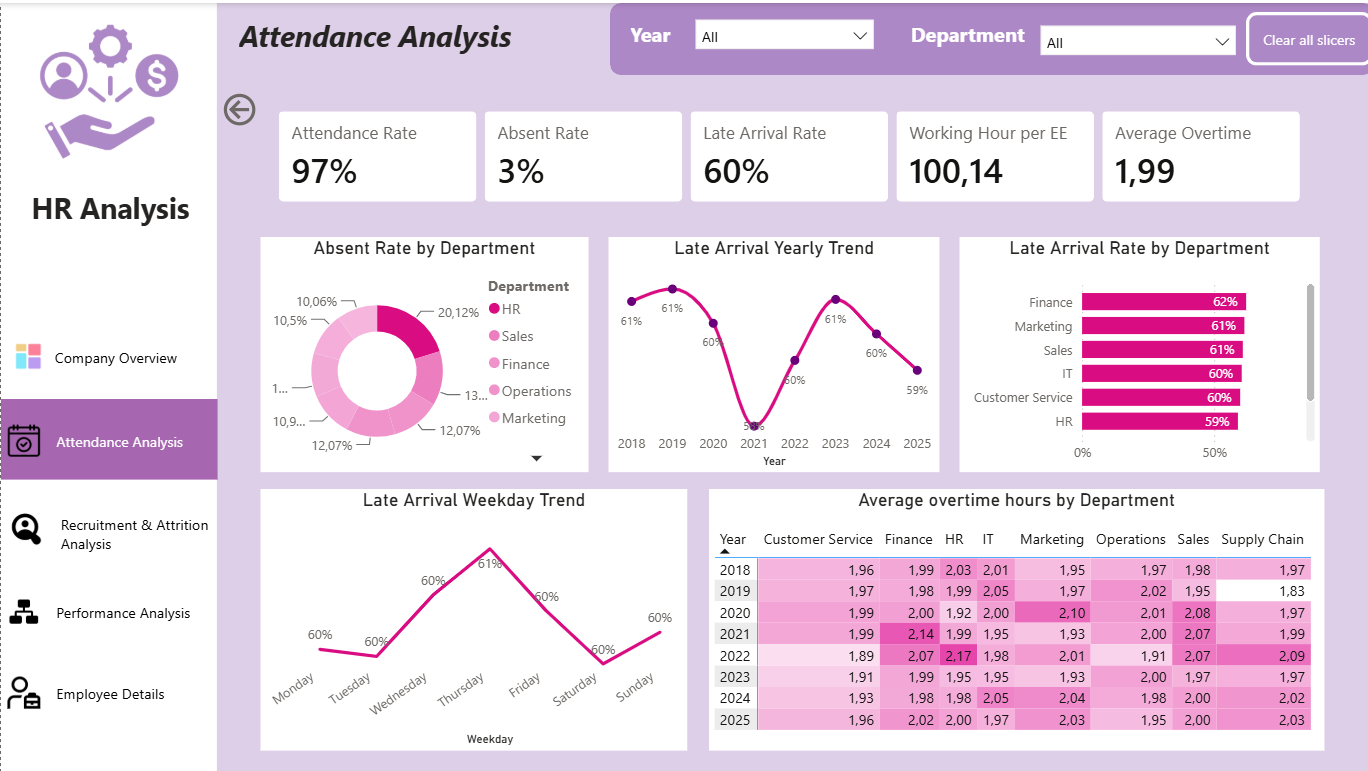

The dashboard page shown, as its layout file describes it:
{"tool":"powerbi","page":{"name":"Attendance","canvas":[1280,720],"ordinal":2},"visuals":[{"type":"textbox","box":[216.3,6.3,305.9,77.2],"z":0},{"type":"donutChart","fields":{"Category":["Department.Department"],"Y":["KPI Table.Absent Rate"]},"box":[242.3,218,305.9,219.6],"z":1000},{"type":"image","box":[4.5,317.7,42.4,24],"z":1000,"group":"g1"},{"type":"image","box":[0,476.5,47.4,30.3],"z":1000,"group":"g3"},{"type":"image","box":[0,552.6,42.4,30.3],"z":1000,"group":"g4"},{"type":"image","box":[0,627.4,42.4,30.3],"z":1000,"group":"g5"},{"type":"shape","box":[0,369.5,202.1,75.2],"z":1500,"group":"g2"},{"type":"image","box":[0,392.6,42.4,30.3],"z":1750,"group":"g2"},{"type":"actionButton","box":[46.9,304.5,131.7,50.5],"z":2000,"group":"g1"},{"type":"actionButton","box":[46.9,376.3,156,63.6],"z":2000,"group":"g2"},{"type":"pivotTable","title":"Average overtime hours by Department","fields":{"Rows":["Dim_Date.Year"],"Columns":["Department.Department"],"Values":["KPI Table.Average Overtime Hours"]},"box":[660.2,452.7,573.9,243.8],"z":2000},{"type":"actionButton","box":[51.5,467.9,151.4,54.5],"z":2000,"group":"g3"},{"type":"actionButton","box":[46.9,536,156,63.6],"z":2000,"group":"g4"},{"type":"actionButton","box":[46.9,610.8,156,63.6],"z":2000,"group":"g5"},{"type":"barChart","fields":{"Category":["Department.Department"],"Y":["KPI Table.Late Arrival Rate"]},"box":[893.4,218,336.2,219.6],"z":3000},{"type":"lineChart","title":"Late Arrival Yearly Trend","fields":{"Y":["KPI Table.Late Arrival Rate"],"Category":["Dim_Date.Year"]},"box":[566.3,218,308.9,219.6],"z":4000},{"type":"lineChart","title":"Late Arrival Weekday Trend","fields":{"Y":["KPI Table.Late Arrival Rate"],"Category":["Attendance.Weekday"]},"box":[242.3,452.7,398.2,243.8],"z":5000},{"type":"shape","box":[0,0,201.4,719.2],"z":6000},{"type":"textbox","box":[12.1,168.1,178.8,45.8],"z":7000},{"type":"group","id":"g1","title":"OG1","box":[4.5,304.5,174.1,50.5],"z":8000},{"type":"group","id":"g2","title":"OG1","box":[0,369.5,202.9,75.2],"z":9000},{"type":"group","id":"g3","title":"OG1","box":[0,467.9,202.9,54.5],"z":10000},{"type":"group","id":"g4","title":"OG1","box":[0,536,202.9,63.6],"z":11000},{"type":"image","box":[33.3,13.6,134.8,137.8],"z":12000},{"type":"cardVisual","fields":{"Data":["KPI Table.Attendance Rate","KPI Table.Absent Rate","KPI Table.Late Arrival Rate","KPI Table.Working Hour per EE","KPI Table.Average Overtime Hours"]},"box":[242.3,83.3,987.3,118.1],"z":13000},{"type":"shape","box":[567.8,0,712.2,67.2],"z":14000},{"type":"slicer","fields":{"Values":["Dim_Date.Year"]},"box":[637.5,6.1,185.9,62.9],"z":15000},{"type":"slicer","fields":{"Values":["Department.Department"]},"box":[960,10.6,202.1,63.2],"z":16000},{"type":"textbox","box":[843.4,10.6,117.3,57.2],"z":17000},{"type":"textbox","box":[581.5,10.6,58.6,57.2],"z":18000},{"type":"actionButton","box":[1161.4,9.1,118.1,50],"z":19000},{"type":"group","id":"g5","title":"OG1","box":[0,610.8,202.6,64.1],"z":20000},{"type":"actionButton","box":[202.6,80.2,46.7,39.4],"z":21000}]}

Visuals, with their boxes in screenshot pixels (x1, y1, x2, y2), scaled from the page's 1280x720 canvas onto the 1368x771 screenshot:
textbox: {"x1": 231, "y1": 7, "x2": 558, "y2": 89}
donutChart - Department.Department x KPI Table.Absent Rate: {"x1": 259, "y1": 233, "x2": 586, "y2": 469}
image: {"x1": 5, "y1": 340, "x2": 50, "y2": 366}
image: {"x1": 0, "y1": 510, "x2": 51, "y2": 543}
image: {"x1": 0, "y1": 592, "x2": 45, "y2": 624}
image: {"x1": 0, "y1": 672, "x2": 45, "y2": 704}
shape: {"x1": 0, "y1": 396, "x2": 216, "y2": 476}
image: {"x1": 0, "y1": 420, "x2": 45, "y2": 453}
actionButton: {"x1": 50, "y1": 326, "x2": 191, "y2": 380}
actionButton: {"x1": 50, "y1": 403, "x2": 217, "y2": 471}
"Average overtime hours by Department" pivotTable: {"x1": 706, "y1": 485, "x2": 1319, "y2": 746}
actionButton: {"x1": 55, "y1": 501, "x2": 217, "y2": 559}
actionButton: {"x1": 50, "y1": 574, "x2": 217, "y2": 642}
actionButton: {"x1": 50, "y1": 654, "x2": 217, "y2": 722}
barChart - Department.Department x KPI Table.Late Arrival Rate: {"x1": 955, "y1": 233, "x2": 1314, "y2": 469}
"Late Arrival Yearly Trend" lineChart: {"x1": 605, "y1": 233, "x2": 935, "y2": 469}
"Late Arrival Weekday Trend" lineChart: {"x1": 259, "y1": 485, "x2": 685, "y2": 746}
shape: {"x1": 0, "y1": 0, "x2": 215, "y2": 770}
textbox: {"x1": 13, "y1": 180, "x2": 204, "y2": 229}
"OG1" group: {"x1": 5, "y1": 326, "x2": 191, "y2": 380}
"OG1" group: {"x1": 0, "y1": 396, "x2": 217, "y2": 476}
"OG1" group: {"x1": 0, "y1": 501, "x2": 217, "y2": 559}
"OG1" group: {"x1": 0, "y1": 574, "x2": 217, "y2": 642}
image: {"x1": 36, "y1": 15, "x2": 180, "y2": 162}
cardVisual - KPI Table.Attendance Rate x KPI Table.Absent Rate: {"x1": 259, "y1": 89, "x2": 1314, "y2": 216}
shape: {"x1": 607, "y1": 0, "x2": 1367, "y2": 72}
slicer - Dim_Date.Year: {"x1": 681, "y1": 7, "x2": 880, "y2": 74}
slicer - Department.Department: {"x1": 1026, "y1": 11, "x2": 1242, "y2": 79}
textbox: {"x1": 901, "y1": 11, "x2": 1027, "y2": 73}
textbox: {"x1": 621, "y1": 11, "x2": 684, "y2": 73}
actionButton: {"x1": 1241, "y1": 10, "x2": 1367, "y2": 63}
"OG1" group: {"x1": 0, "y1": 654, "x2": 217, "y2": 723}
actionButton: {"x1": 217, "y1": 86, "x2": 266, "y2": 128}
